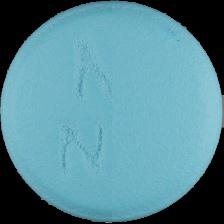53808-0655: (0, 0, 224, 224)
